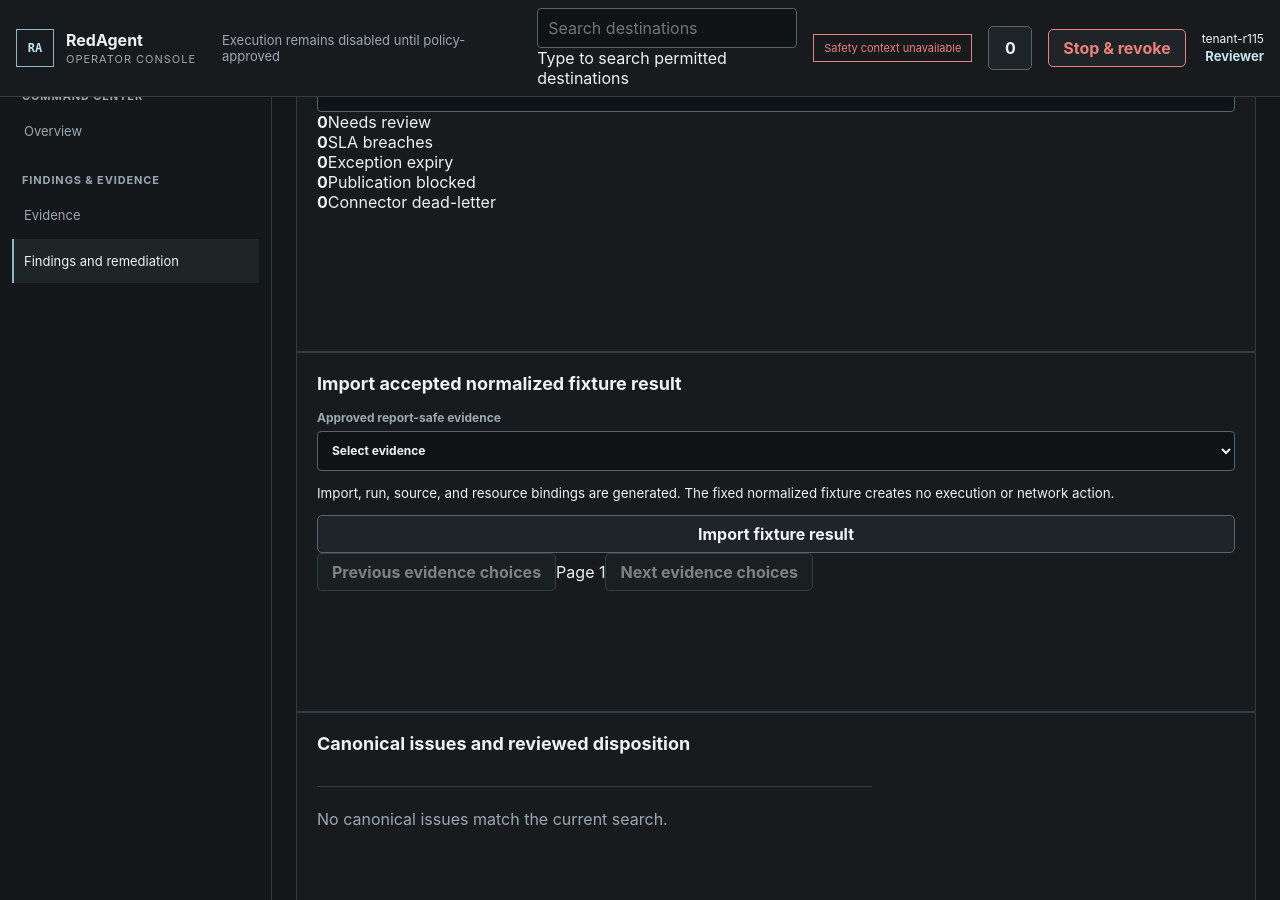
Test: imports only a selected report-safe evidence row with generated fixture bindings
(page scrolled)
Select "evidence-report-safe · retained until 9/25/2026" in the dropdown labelled "Approved report-safe evidence" at (776,451), box x1=317 y1=431 x2=1235 y2=471
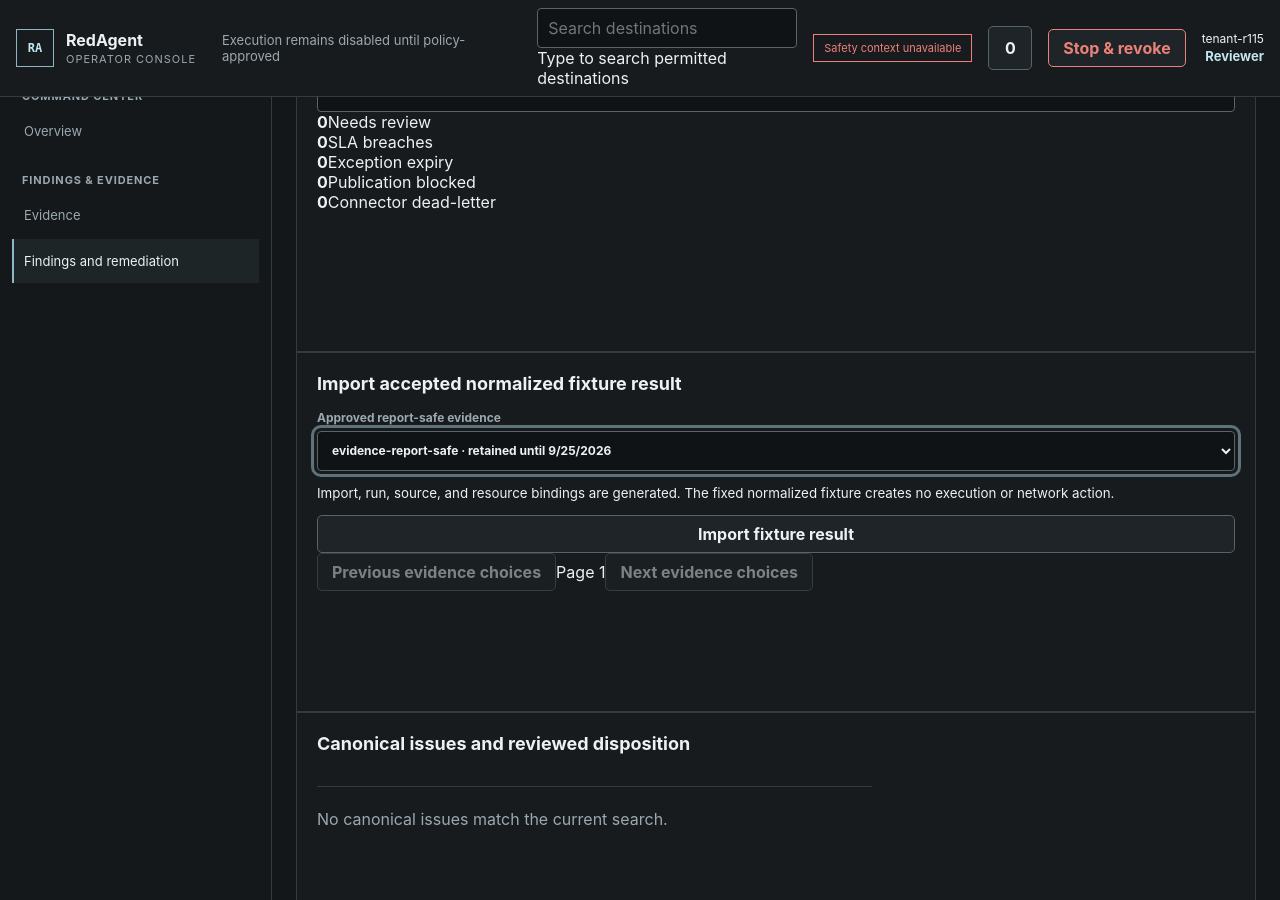
Click the button "Import fixture result" at (776,534), box x1=317 y1=515 x2=1235 y2=553
(page scrolled)
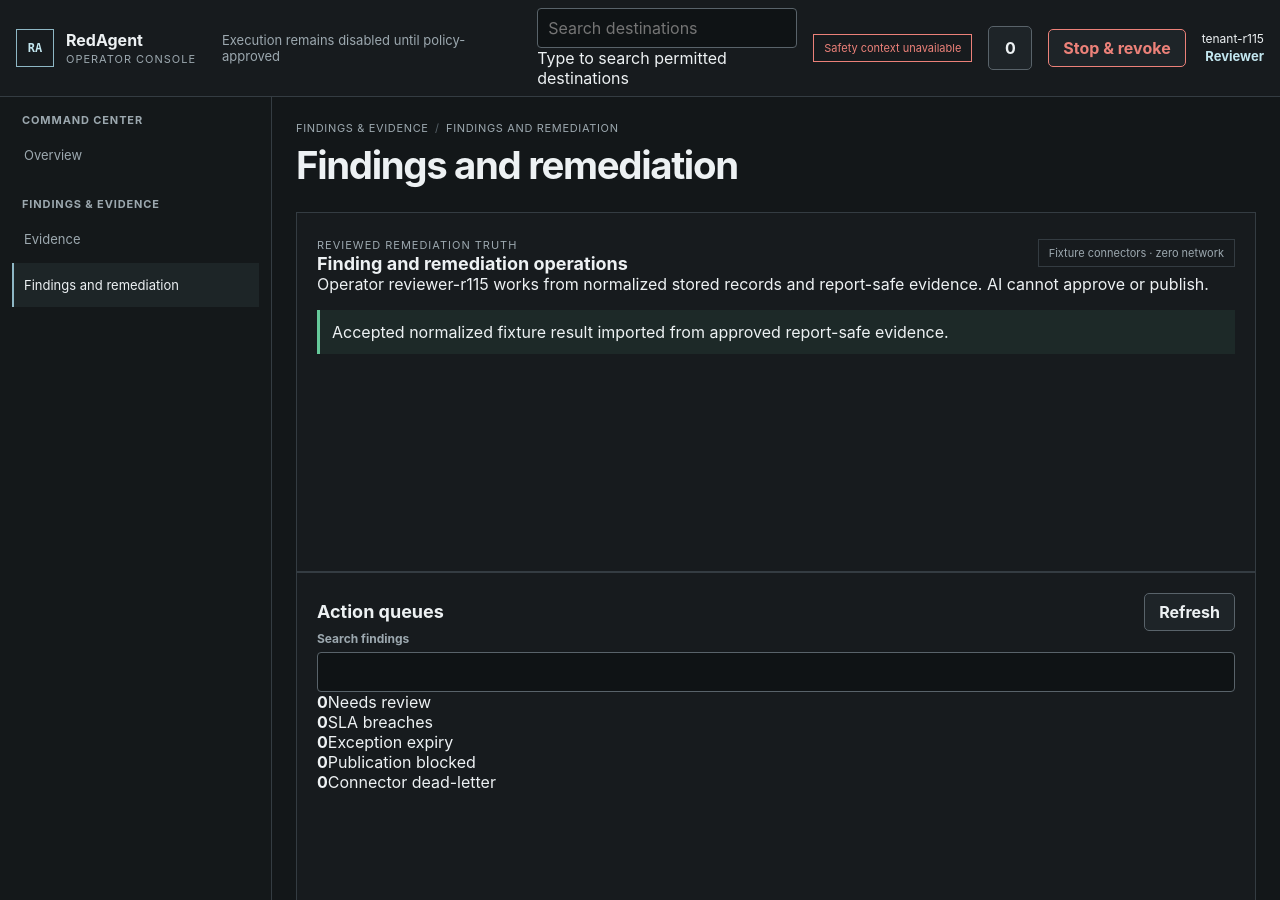
Expected: the text "Accepted normalized fixture result imported from approved report-safe evidence." is shown, x1=317 y1=310 x2=1235 y2=354
